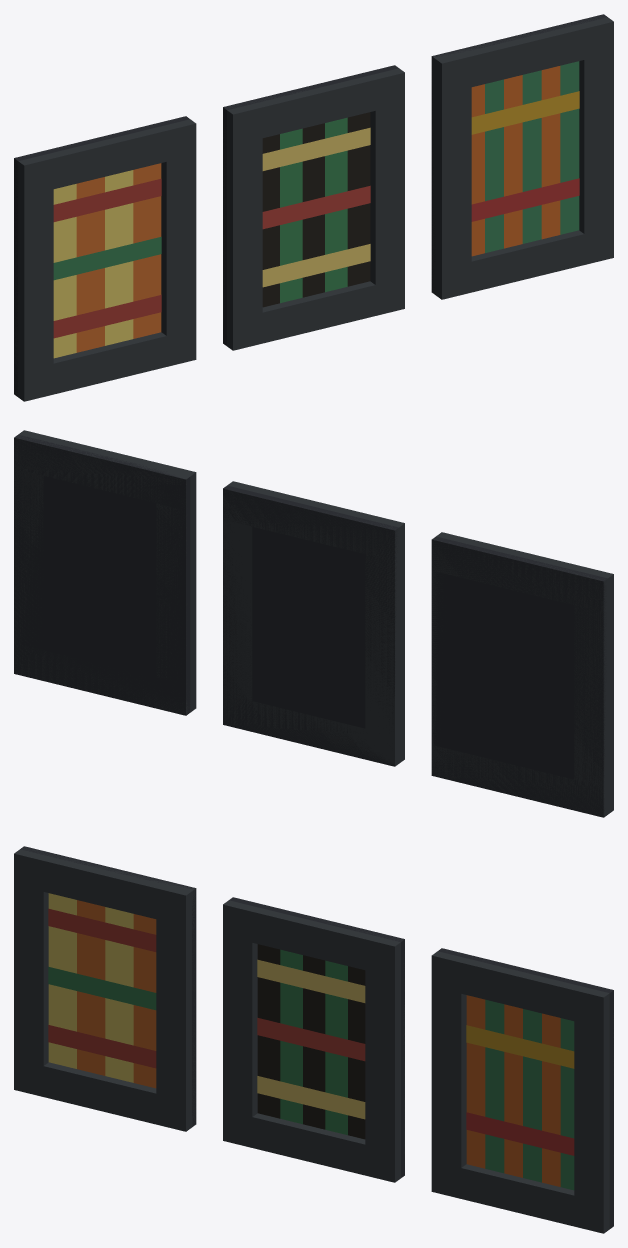
The model's file is picture-frame-36.glb.
The picture shows the model from 3 angles, top to bottom: view 1: azimuth 30°, elevation 25°; view 2: azimuth 150°, elevation 25°; view 3: azimuth 330°, elevation 25°; orthographic projection.
Visible parts, largest first — view 1: picture_frame_36; view 2: picture_frame_36; view 3: picture_frame_36.
Part boxes in pixels (bbox=[...]): picture_frame_36: bbox=[14, 14, 613, 401]; picture_frame_36: bbox=[14, 430, 613, 817]; picture_frame_36: bbox=[14, 846, 613, 1233].
Bounding box in the file's own units: 0.9626 × 0.3684 × 0.0288.
